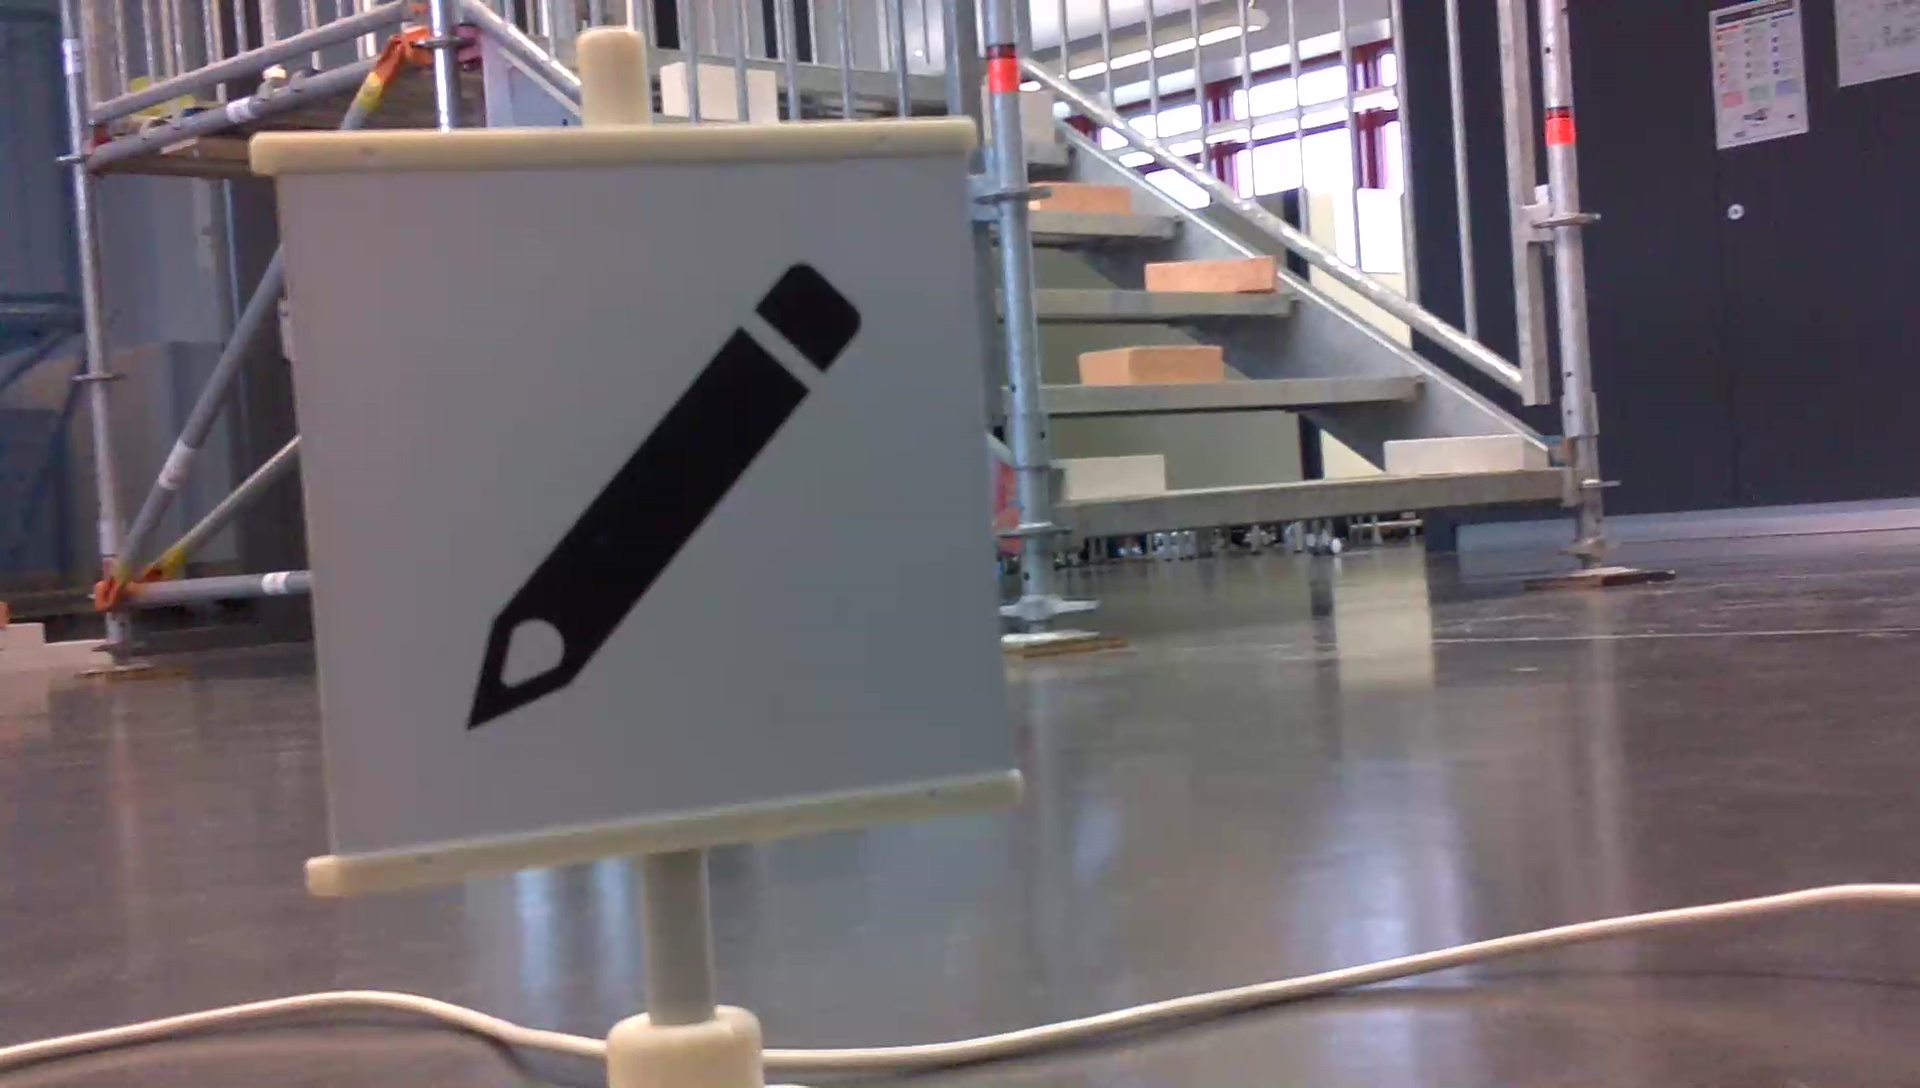brick: (1385, 437, 1518, 473), (1083, 346, 1218, 380), (1145, 256, 1273, 290), (1063, 458, 1160, 495), (1039, 182, 1130, 215), (1018, 90, 1052, 138)
edge: (1058, 471, 1563, 535), (1040, 371, 1424, 410)
pencil: (458, 247, 876, 735)
stairs: (1002, 3, 1672, 661)
